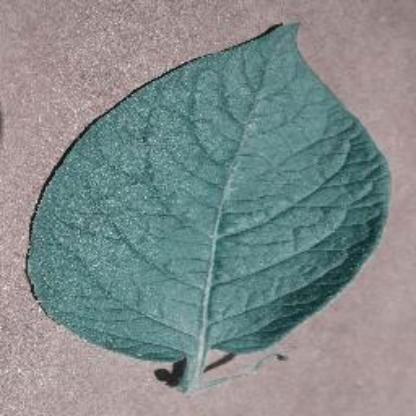Healthy-plant: (22, 18, 394, 396)
